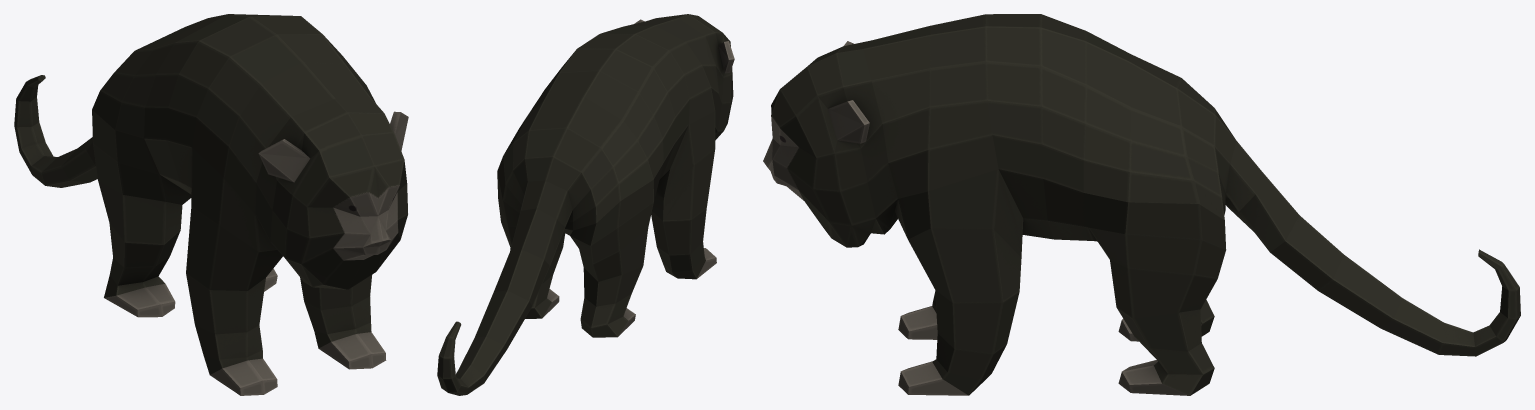
Rendered from animal-monkey.glb.
The picture shows the model from 3 angles, left to right: view 1: azimuth 30°, elevation 25°; view 2: azimuth 150°, elevation 25°; view 3: azimuth 270°, elevation 25°; orthographic projection. The views are drawn at different scales.
Visible parts, largest first — view 1: HowlerMonkey_mesh; view 2: HowlerMonkey_mesh; view 3: HowlerMonkey_mesh.
Boxes of the visible parts, x1,y1,x2,y2 form: HowlerMonkey_mesh: [14, 14, 408, 395]; HowlerMonkey_mesh: [437, 14, 734, 395]; HowlerMonkey_mesh: [763, 14, 1520, 395].
Size of the model in its own units: 6.58 by 10.67 by 22.12.
Materials: 1 (1 with a texture image).
